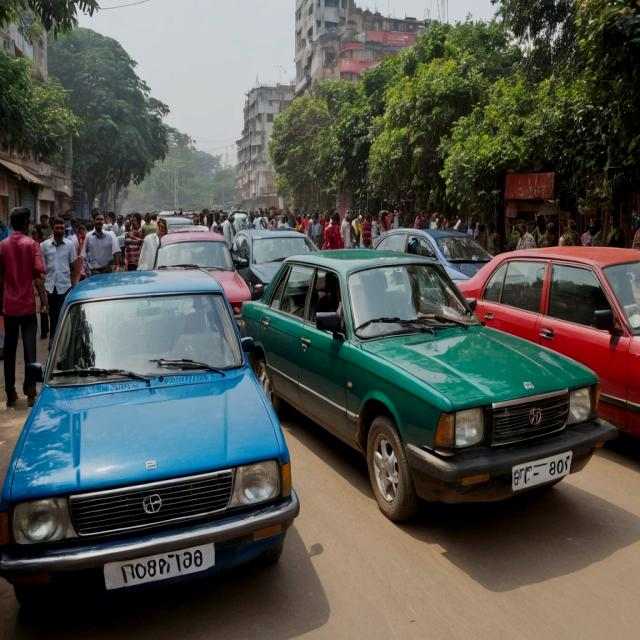blue: (0, 279, 284, 620), (364, 228, 506, 288)
green: (240, 240, 603, 518)
red: (445, 233, 640, 471), (142, 228, 256, 339)
